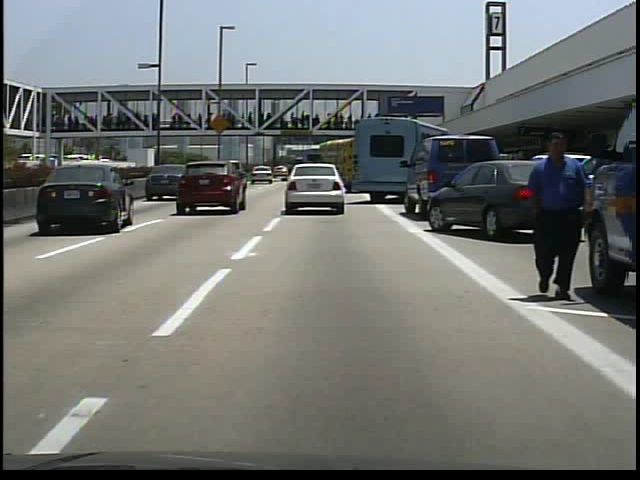person: (518, 131, 589, 302)
